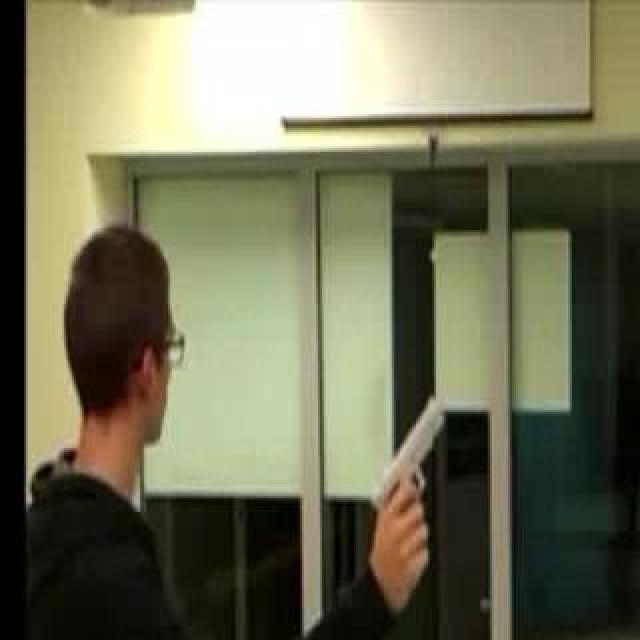Guns: (363, 390, 451, 532)
